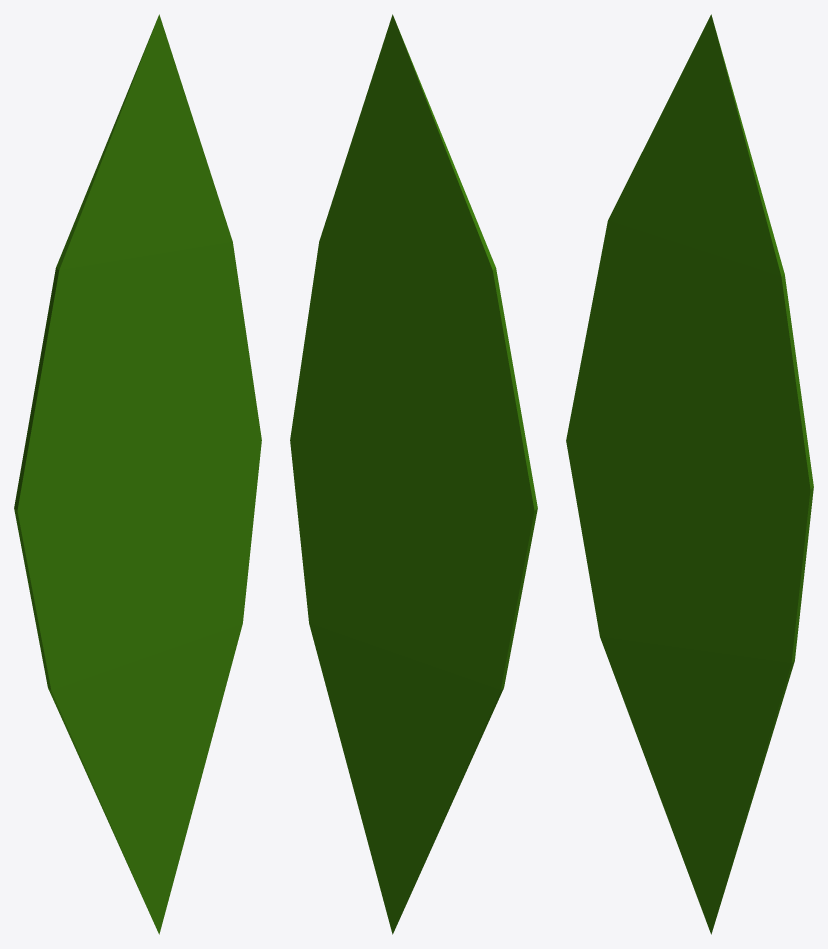
File: Leave_e_02.fbx
3 views of the same model, side by side, from view 1: azimuth 30°, elevation 25°; view 2: azimuth 150°, elevation 25°; view 3: azimuth 330°, elevation 25° (orthographic).
Parts seen in each view (by area): view 1: Leave_e_02_LOD0; view 2: Leave_e_02_LOD0; view 3: Leave_e_02_LOD0.
Boxes of the visible parts, box(x1,y1,x2,y2) form: Leave_e_02_LOD0: box(14, 14, 261, 934); Leave_e_02_LOD0: box(290, 14, 537, 934); Leave_e_02_LOD0: box(566, 14, 813, 934).
Size of what is drawn, in the model's own units: 1.1 by 3.95 by 0.0263.
